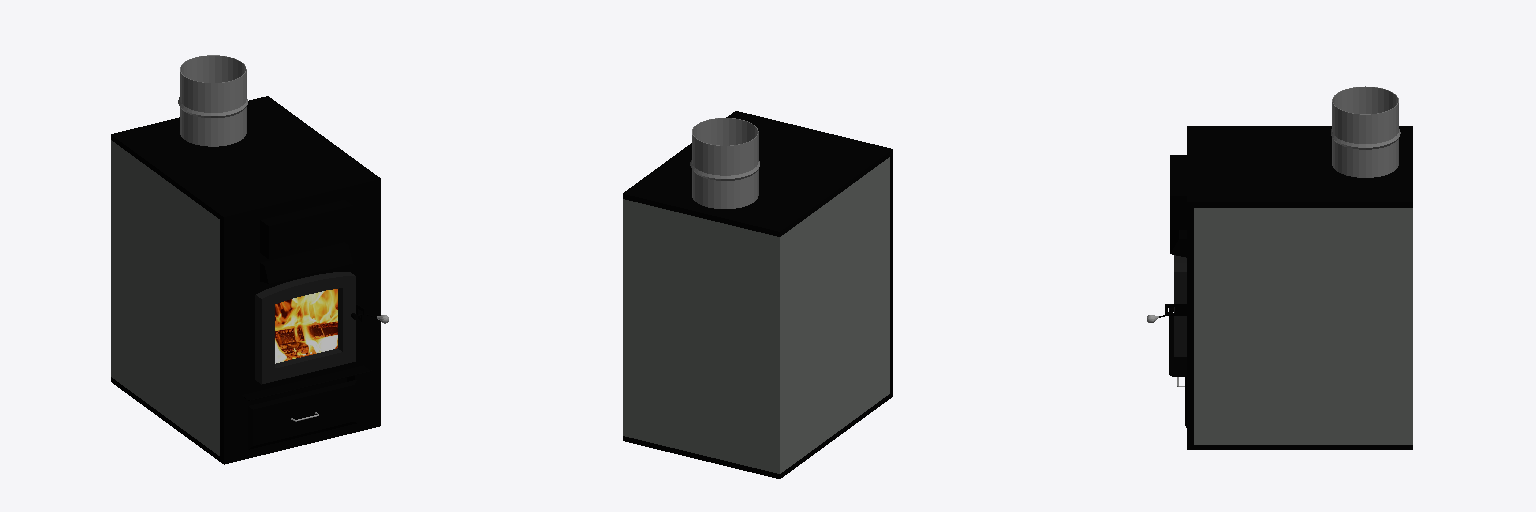
3 views of the same model, side by side, from view 1: azimuth 30°, elevation 25°; view 2: azimuth 150°, elevation 25°; view 3: azimuth 270°, elevation 25° (orthographic).
Parts seen in each view (by area): view 1: Cube, Cube.004, Cylinder.002, Cube.002, Cube.005, Cube.006, Cube.003; view 2: Cube, Cylinder.002; view 3: Cube, Cylinder.002, Cube.005, Cube.004, Cube.003.
Boxes of the visible parts, box(x1,y1,x2,y2) form: Cube: box(111, 96, 380, 464); Cube.004: box(255, 272, 355, 384); Cylinder.002: box(178, 55, 247, 146); Cube.002: box(248, 380, 356, 449); Cube.005: box(260, 200, 352, 258); Cube.006: box(260, 242, 352, 283); Cube.003: box(242, 365, 371, 400); Cube: box(623, 111, 892, 478); Cylinder.002: box(690, 118, 759, 208); Cube: box(1187, 126, 1412, 449); Cylinder.002: box(1331, 86, 1400, 177); Cube.005: box(1170, 155, 1186, 229); Cube.004: box(1174, 255, 1186, 356); Cube.003: box(1169, 316, 1186, 376).
Bounding box in the file's own units: 66.6 × 126 × 97.74.
Materials: 6 (1 with a texture image).